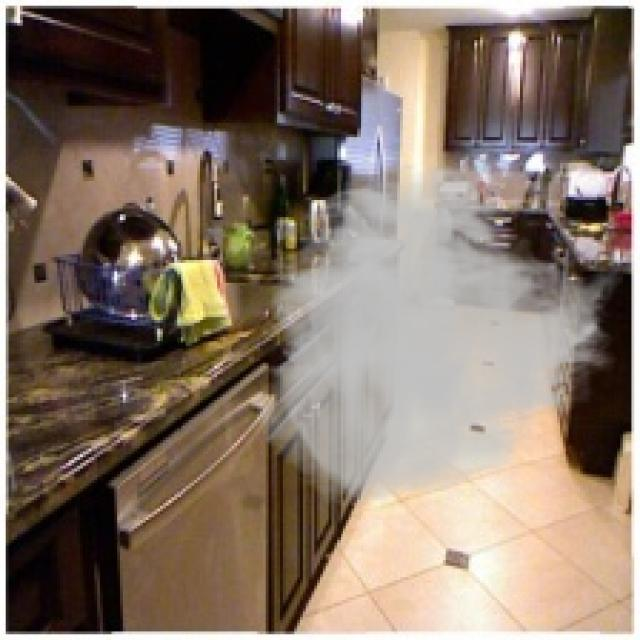smoke: (251, 160, 626, 509)
